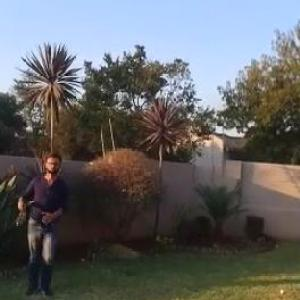follow: (4, 146, 78, 299)
